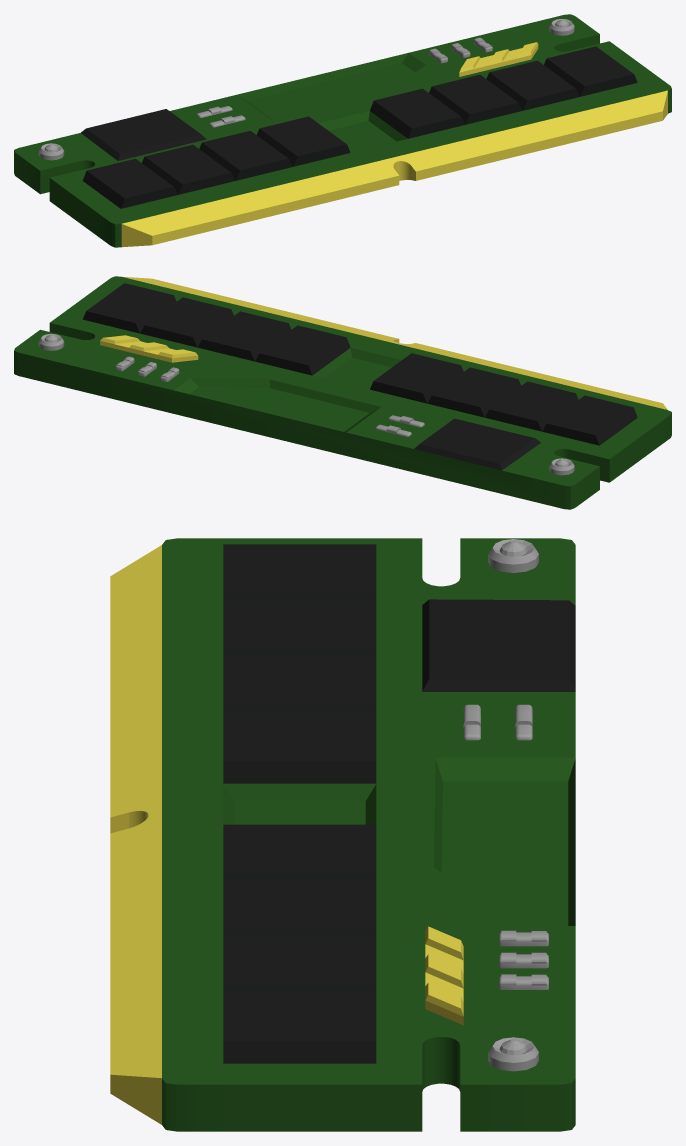
The model's file is ram.glb.
The picture shows the model from 3 angles, top to bottom: view 1: azimuth 30°, elevation 25°; view 2: azimuth 150°, elevation 25°; view 3: azimuth 270°, elevation 25°; orthographic projection. The views are drawn at different scales.
Parts seen in each view (by area): view 1: RAM Circle 2; view 2: RAM Circle 2; view 3: RAM Circle 2.
Boxes of the visible parts, box(x1,y1,x2,y2) form: RAM Circle 2: box(14, 14, 671, 247); RAM Circle 2: box(14, 276, 671, 509); RAM Circle 2: box(110, 538, 575, 1131).
Bounding box in the file's own units: 0.4369 × 0.0251 × 0.1573.
